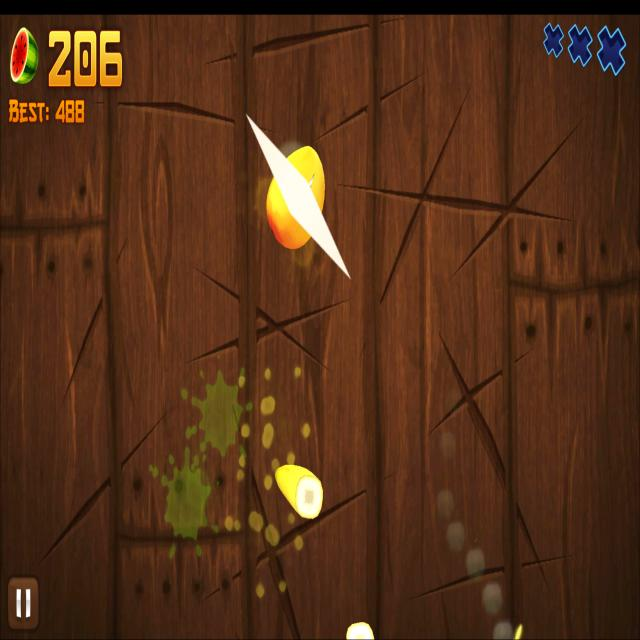fruit: (266, 145, 326, 250)
